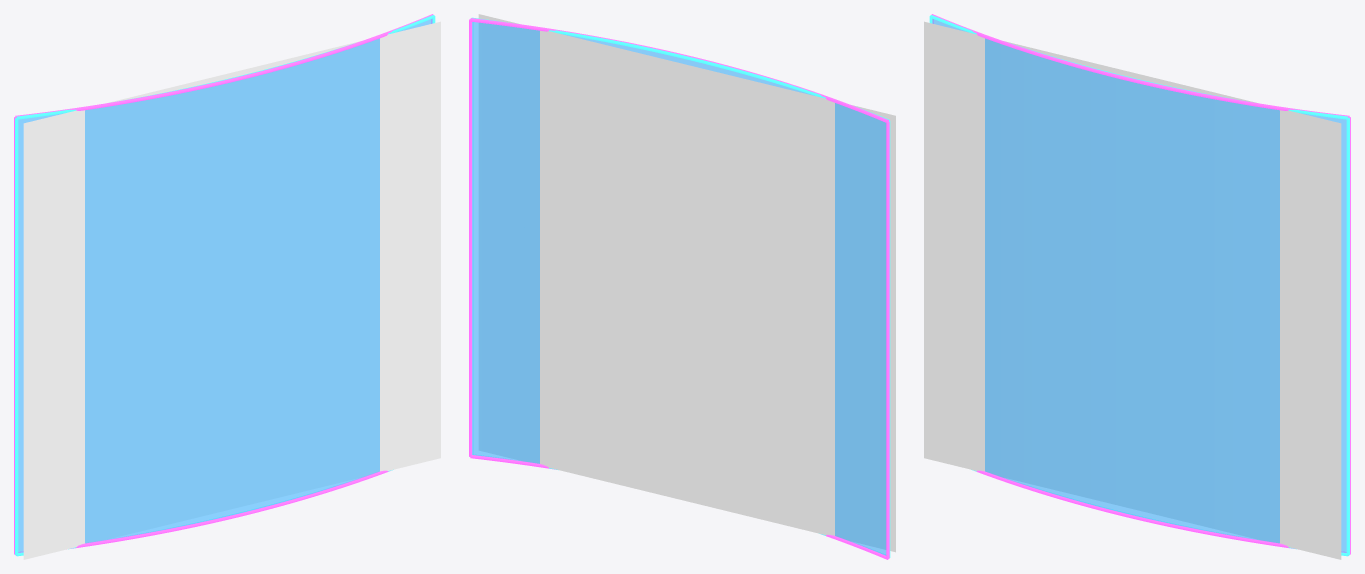
The model's file is document-workspace.glb.
3 views of the same model, side by side, from view 1: azimuth 30°, elevation 25°; view 2: azimuth 150°, elevation 25°; view 3: azimuth 330°, elevation 25° (orthographic).
Visible parts, largest first — view 1: pdf-page, document-glass, result-glass, result-rim, document-rim; view 2: pdf-page, result-glass, document-glass, result-rim, document-rim; view 3: pdf-page, document-glass, result-glass, result-rim, document-rim.
Boxes of the visible parts, bbox=[...] form: pdf-page: bbox=[23, 21, 440, 559]; document-glass: bbox=[18, 19, 432, 552]; result-glass: bbox=[19, 20, 430, 551]; result-rim: bbox=[14, 14, 433, 555]; document-rim: bbox=[15, 15, 435, 556]; pdf-page: bbox=[478, 14, 895, 552]; result-glass: bbox=[472, 22, 885, 555]; document-glass: bbox=[473, 22, 885, 554]; result-rim: bbox=[469, 18, 889, 559]; document-rim: bbox=[472, 17, 890, 557]; pdf-page: bbox=[924, 21, 1341, 559]; document-glass: bbox=[932, 19, 1346, 552]; result-glass: bbox=[934, 20, 1345, 551]; result-rim: bbox=[931, 14, 1350, 555]; document-rim: bbox=[929, 15, 1349, 556].
Bounding box in the file's own units: 1.01 × 1.01 × 0.0741.
Materials: 5 (1 with a texture image).
